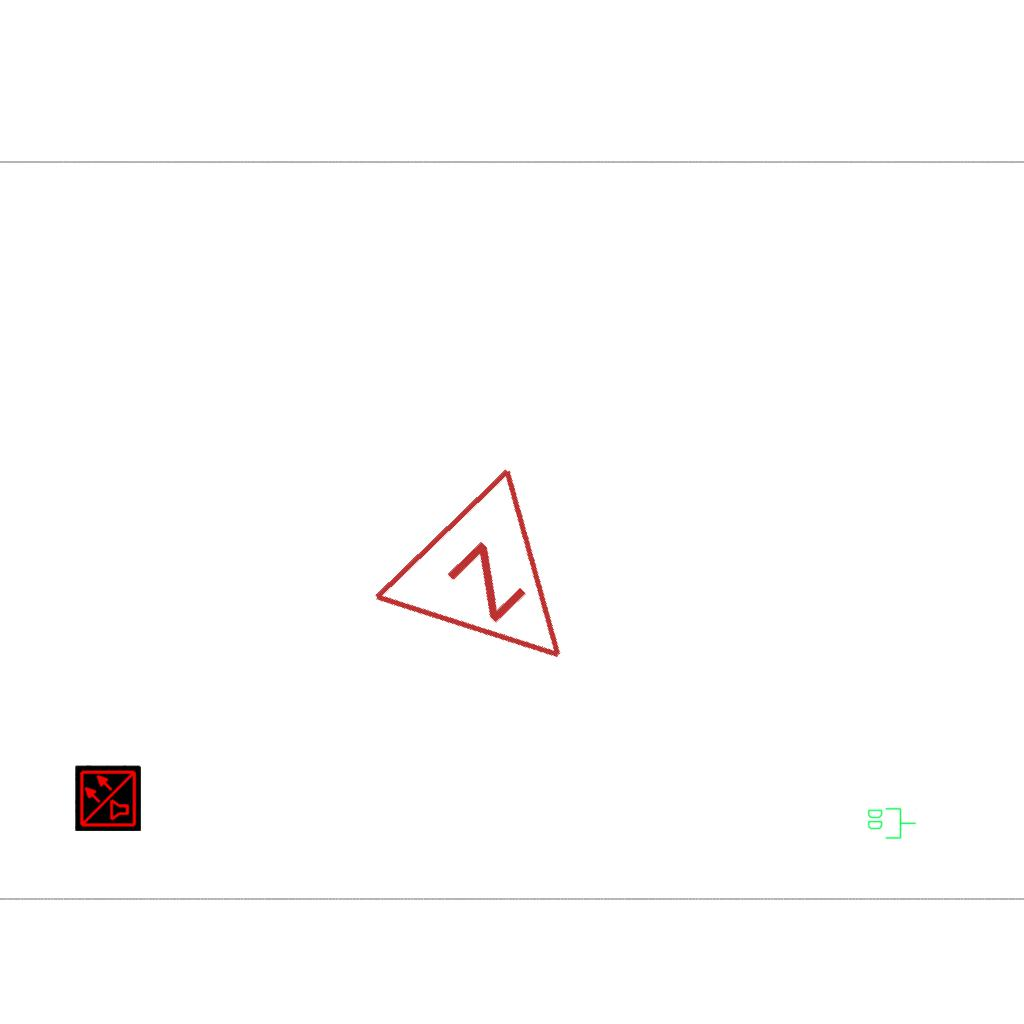Datenanschluss_zweifach: (866, 806, 917, 840)
OKW_Multisensormelder_(Kombination_optischer_Rauch-Kahlenmonoxid_Waerme-Melder): (75, 765, 141, 831)
Zimmersignalleuchte: (361, 451, 641, 733)
